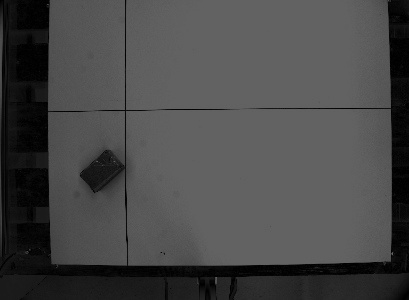b1: (77, 146, 127, 194)
